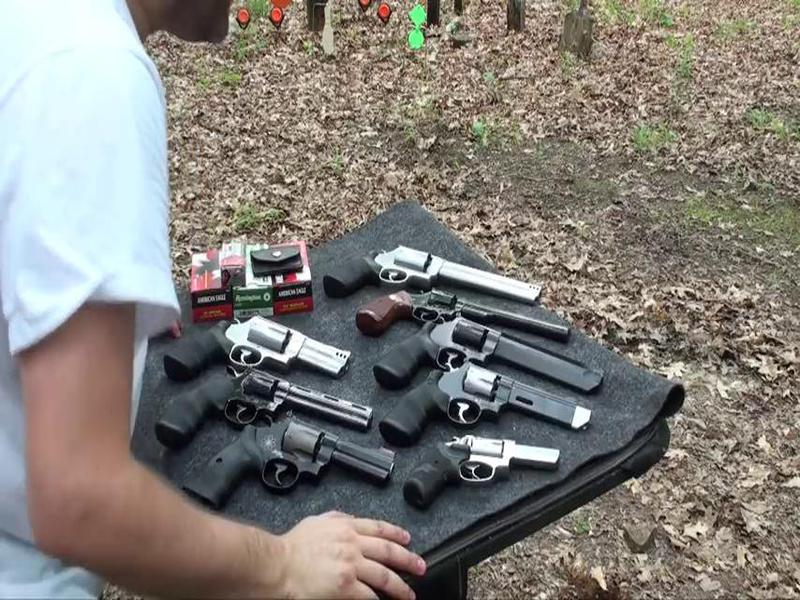Revolver: (393, 431, 584, 539)
